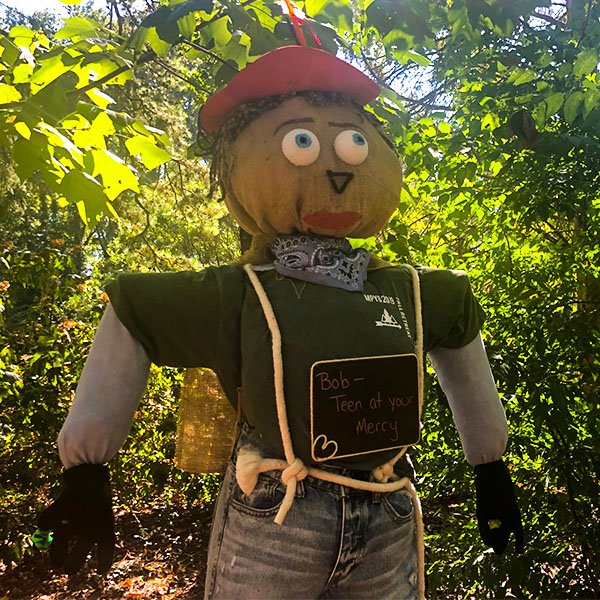person-like: (53, 43, 522, 600)
